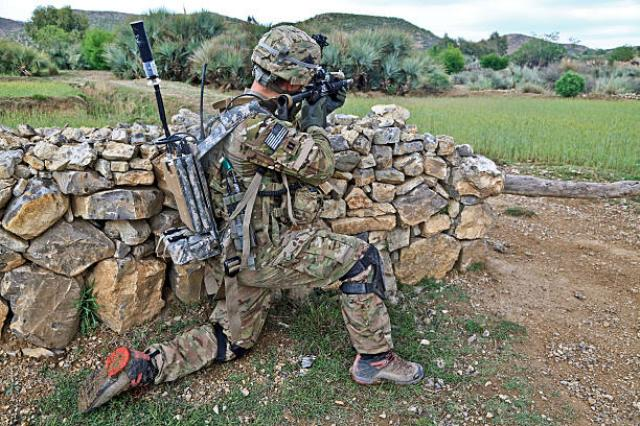other: (164, 29, 353, 355)
